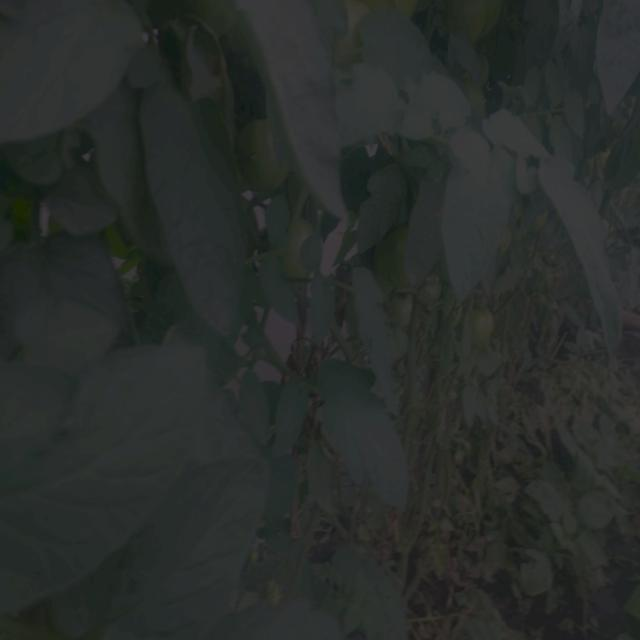tomato: (441, 1, 515, 39), (247, 126, 280, 195), (281, 213, 312, 282), (477, 304, 502, 346), (394, 285, 417, 326)
